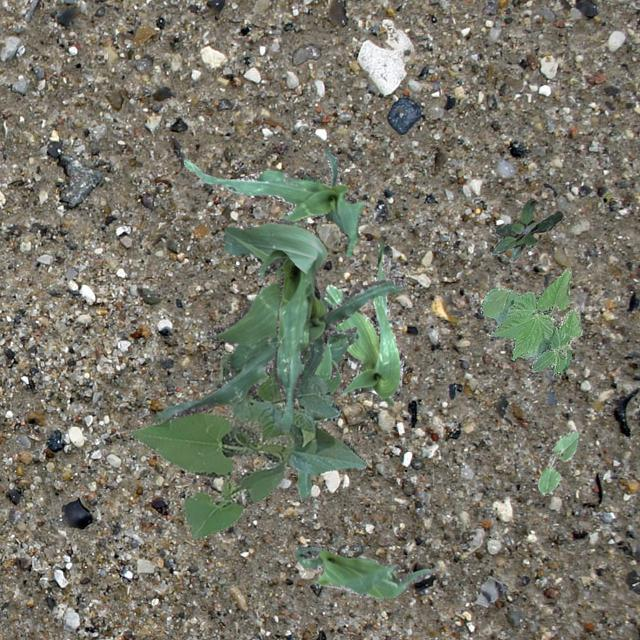crop: (154, 220, 406, 418), (127, 351, 366, 538), (182, 145, 362, 255), (320, 240, 402, 404), (479, 266, 582, 376), (296, 326, 356, 500), (256, 248, 312, 432), (294, 546, 430, 598), (536, 428, 576, 494), (298, 170, 332, 220)
weed: (492, 198, 562, 260)
